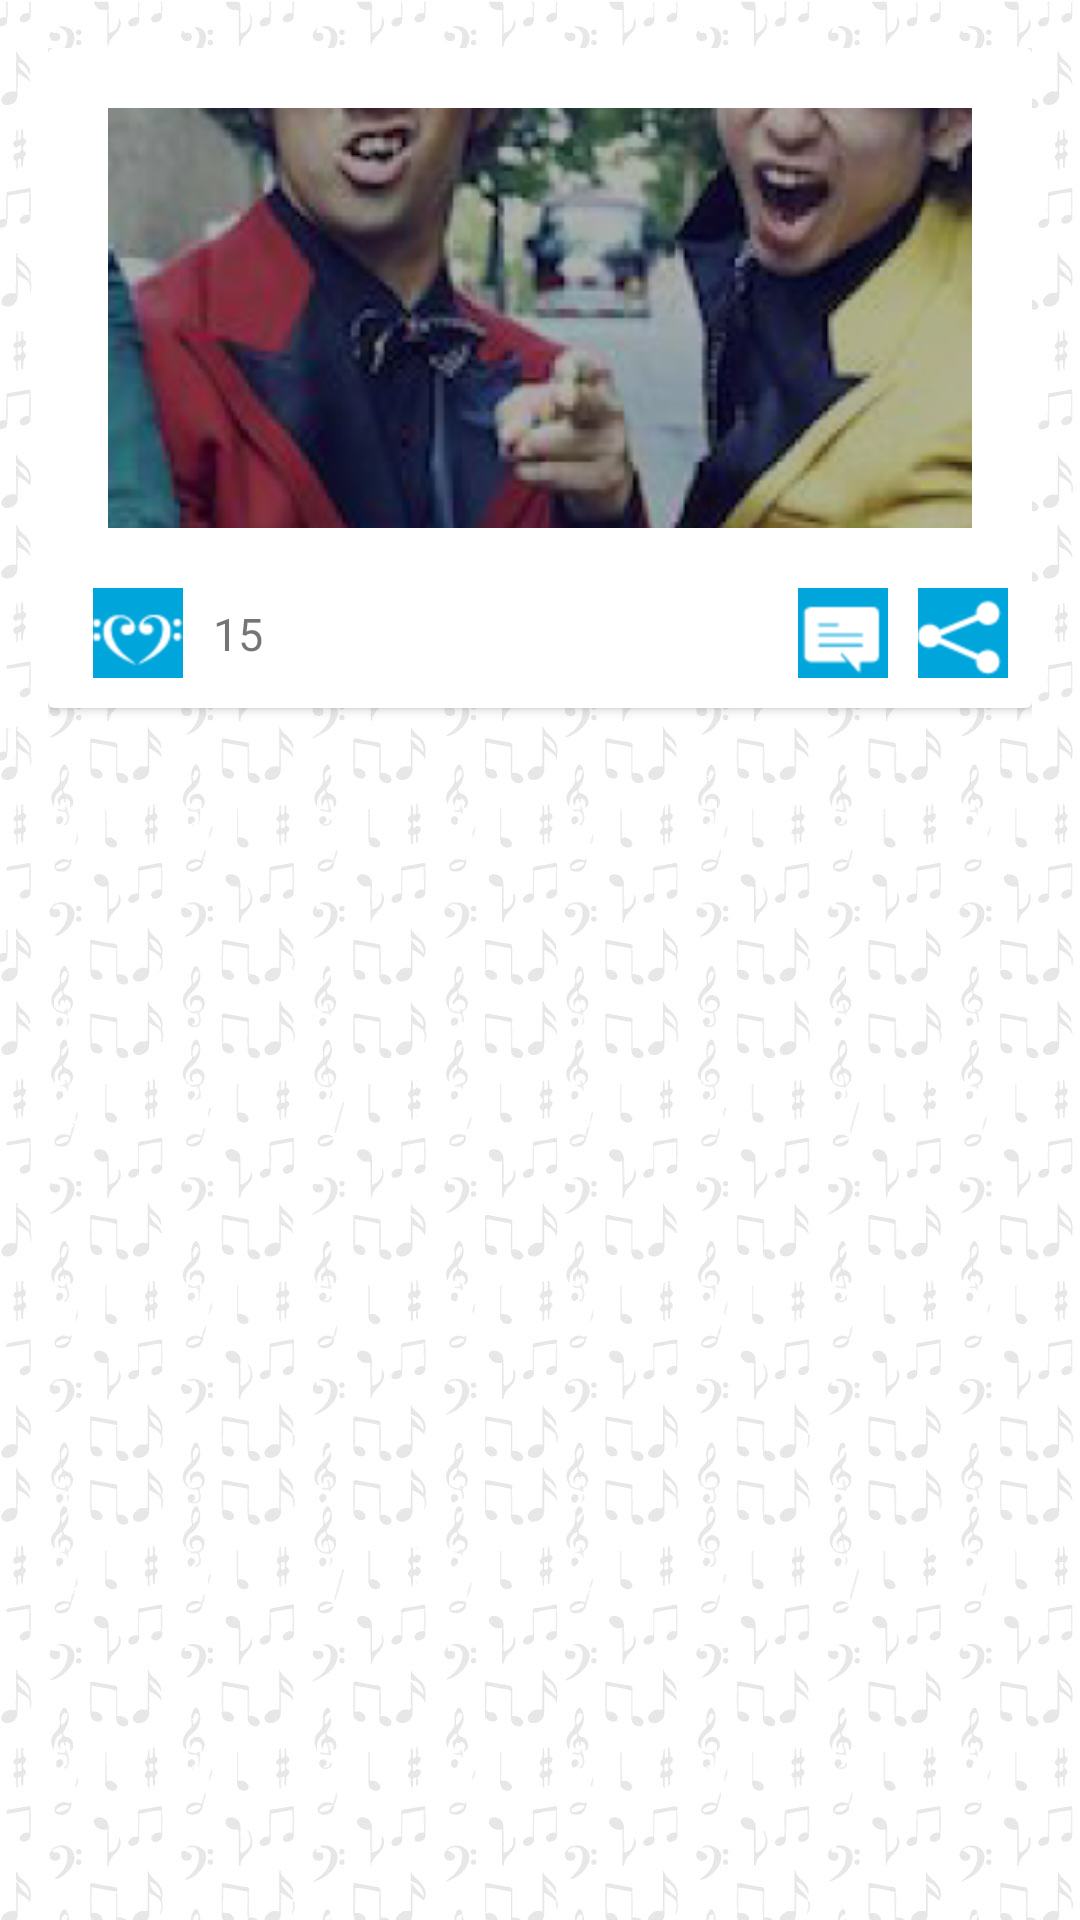

Point at icon controls on the screen. Image size 1080w x 1920h, points as [x,y].
iconocomentarios: [843,633]
iconocompartir: [963,633]
